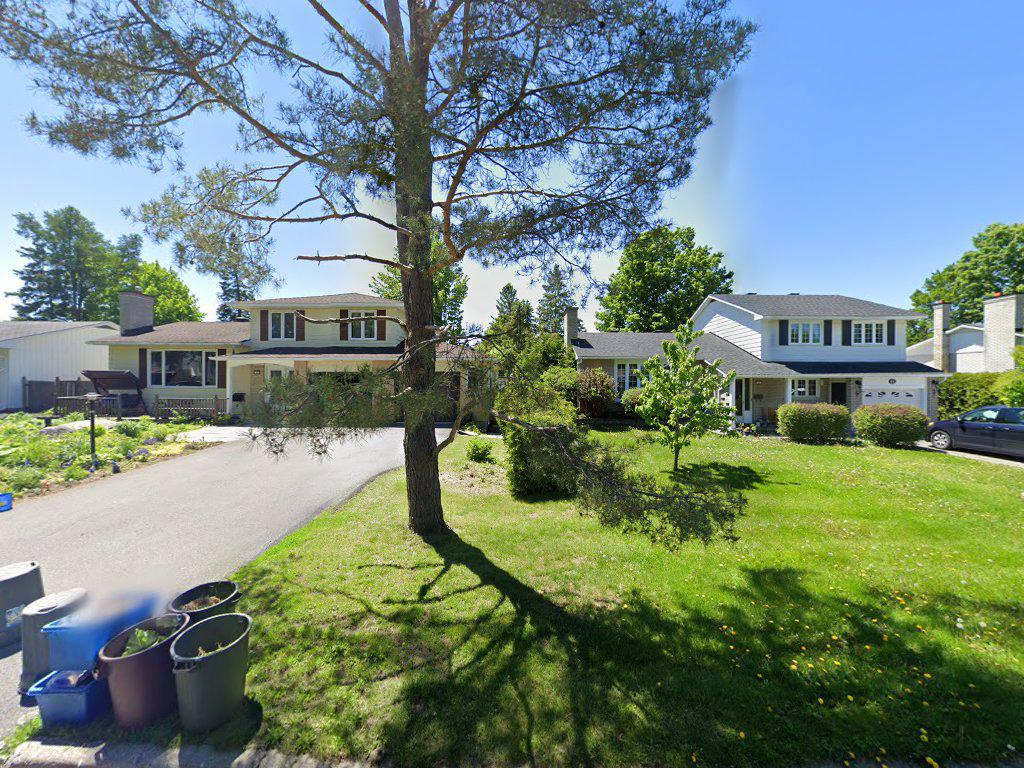trunk: (387, 76, 449, 541)
